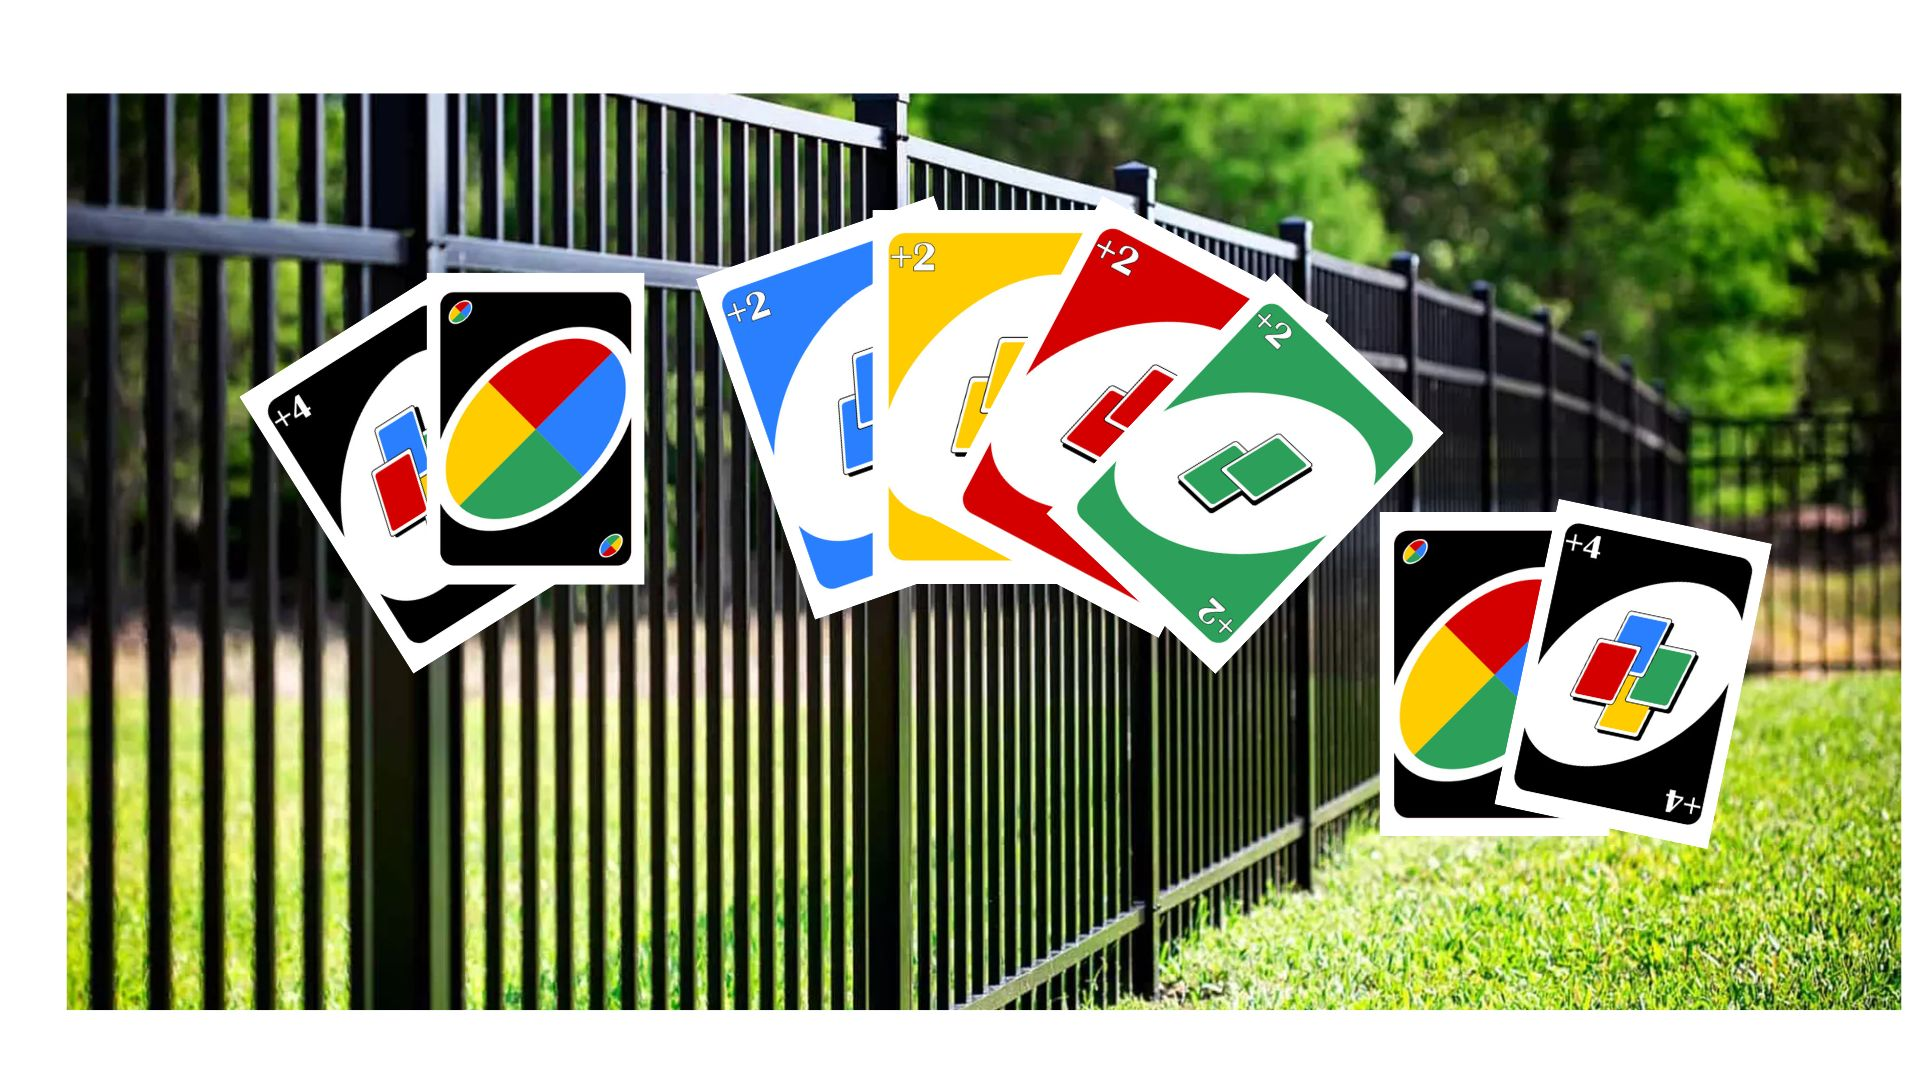draw2_red: (1403, 538, 1429, 567), (446, 301, 476, 326), (597, 533, 626, 558)
draw2_yellow: (889, 239, 938, 278)
reverse_yellow: (724, 290, 774, 324)
skip_yellow: (1096, 239, 1141, 281)
wild: (1197, 592, 1234, 634), (1251, 313, 1291, 351)
wild_draw4: (272, 393, 315, 433), (1564, 529, 1602, 563), (1663, 787, 1701, 820)
